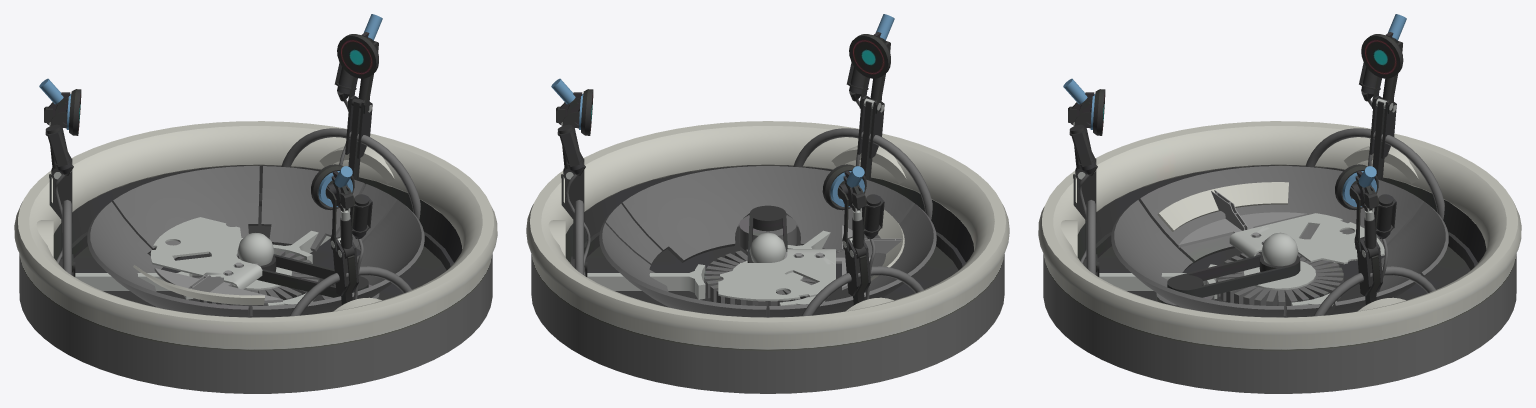
File: tractor_beam.glb
3 renders of one model, left to right at view 1: azimuth 30°, elevation 25°; view 2: azimuth 150°, elevation 25°; view 3: azimuth 270°, elevation 25°, orthographic.
Parts seen in each view (by area): view 1: EDITOR_tbeam; view 2: EDITOR_tbeam; view 3: EDITOR_tbeam.
Boxes of the visible parts, box(x1,y1,x2,y2) form: EDITOR_tbeam: box(14, 14, 497, 393); EDITOR_tbeam: box(526, 14, 1009, 393); EDITOR_tbeam: box(1038, 14, 1521, 393).
Size of the model in its own units: 1.88 by 0.8888 by 1.88.
Materials: 1 (1 with a texture image).
